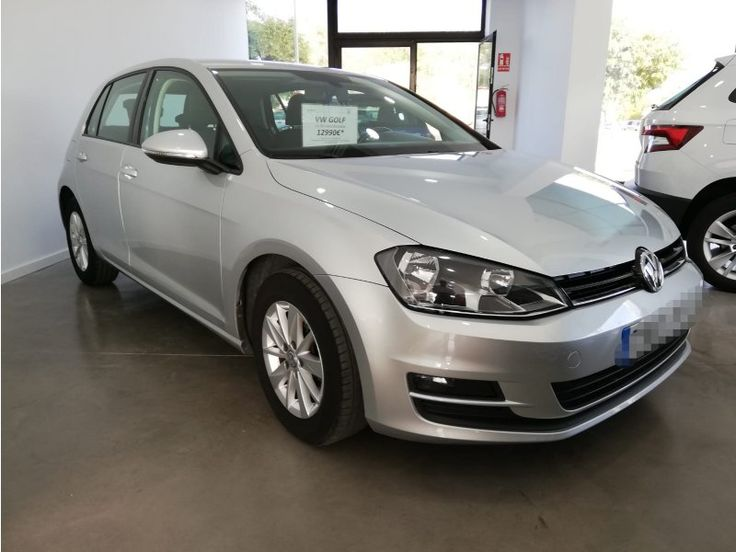car: (45, 40, 714, 445), (632, 32, 735, 294)
